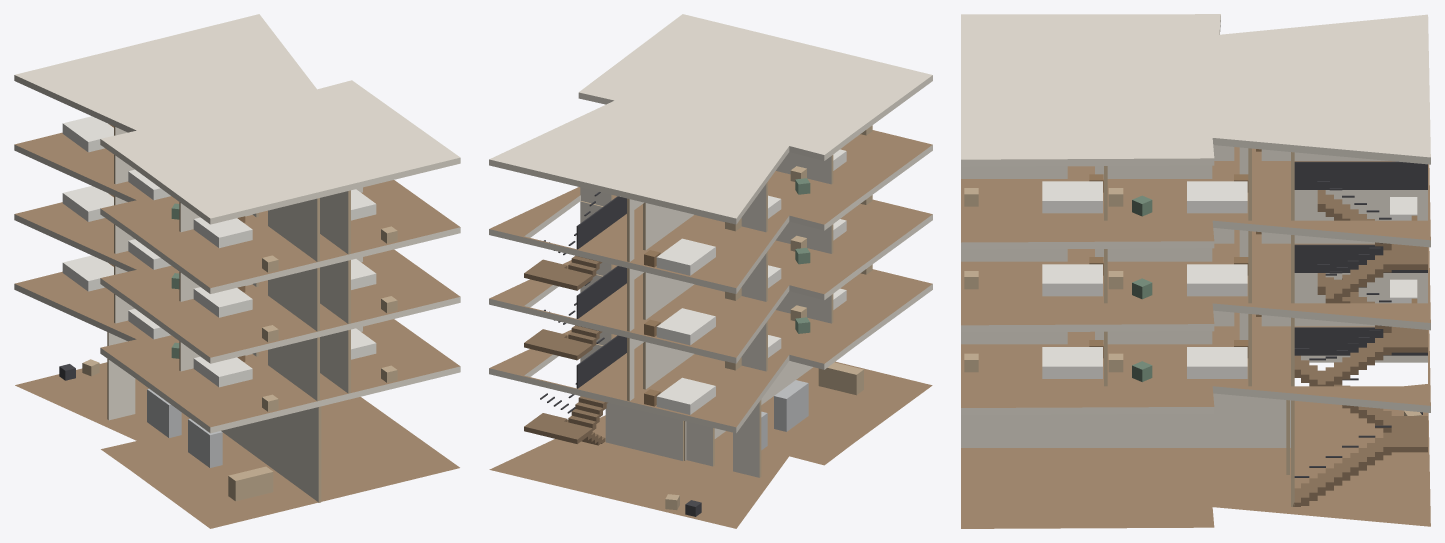
File: interior.glb
The picture shows the model from 3 angles, left to right: view 1: azimuth 30°, elevation 25°; view 2: azimuth 150°, elevation 25°; view 3: azimuth 270°, elevation 25°; orthographic projection. The views are drawn at different scales.
Parts seen in each view (by area): view 1: slabs, partitions, coarse-s3, coarse-s1, coarse-s2, coarse-s0; view 2: slabs, partitions, stair, coarse-s0, coarse-s3, coarse-s2, coarse-s1; view 3: slabs, partitions, stair, coarse-s2, coarse-s1, coarse-s3.
Boxes of the visible parts, bbox=[...] form: slabs: bbox=[14, 14, 460, 528]; partitions: bbox=[107, 126, 362, 502]; coarse-s3: bbox=[62, 116, 397, 272]; coarse-s1: bbox=[62, 255, 397, 411]; coarse-s2: bbox=[62, 186, 397, 342]; coarse-s0: bbox=[59, 359, 273, 501]; slabs: bbox=[489, 14, 932, 528]; partitions: bbox=[580, 152, 833, 477]; stair: bbox=[524, 192, 626, 445]; coarse-s0: bbox=[665, 362, 863, 516]; coarse-s3: bbox=[644, 125, 872, 275]; coarse-s2: bbox=[644, 195, 872, 345]; coarse-s1: bbox=[644, 264, 872, 414]; slabs: bbox=[961, 14, 1430, 528]; partitions: bbox=[961, 145, 1427, 506]; stair: bbox=[1293, 161, 1427, 506]; coarse-s2: bbox=[964, 197, 1417, 299]; coarse-s1: bbox=[964, 279, 1417, 381]; coarse-s3: bbox=[964, 149, 1261, 216].
Bounding box in the file's own units: 11.32 × 13.4 × 15.43.
